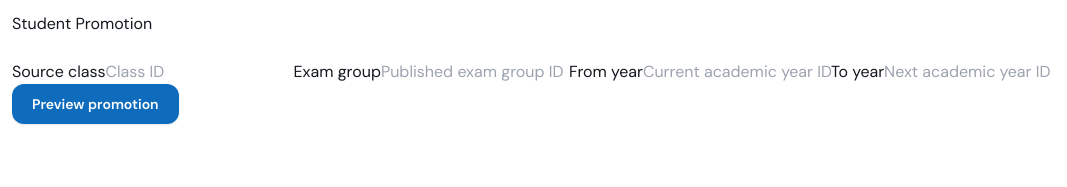
Test: a D-011 blocker is EXPLAINED, not crashed › an unpublished group shows its message
In the field labelled "Source class": (200, 72) [106,60,294,84], type "class-1"
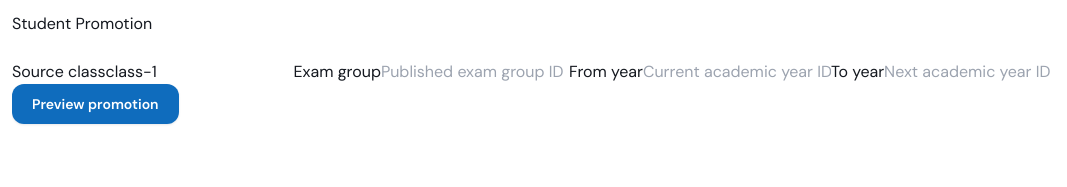
In the field labelled "Exam group": (475, 72) [381,60,569,84], type "group-1"
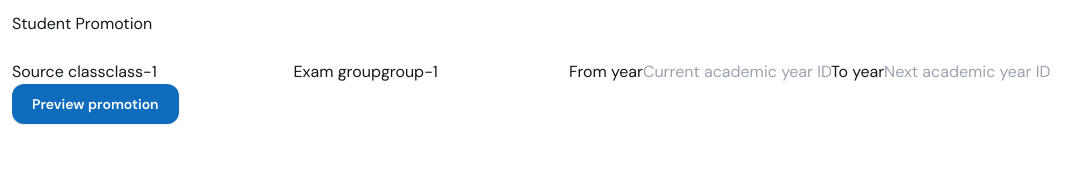
In the field labelled "From year": (737, 72) [643,60,831,84], type "year-26"
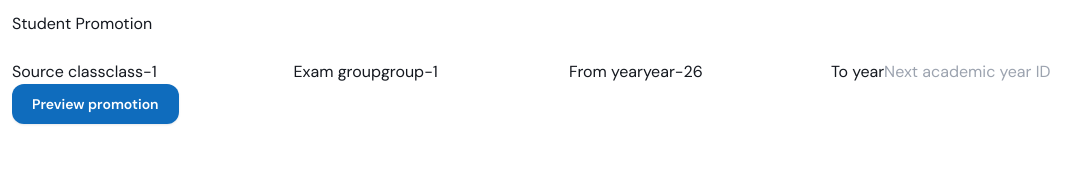
Click the button "Preview promotion": (95, 104) [12,84,179,124]
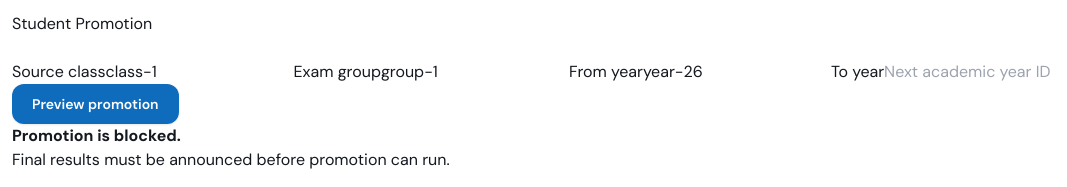
Now the text "Final results must be announced before promotion can run." is shown, box [12,149,450,170]
